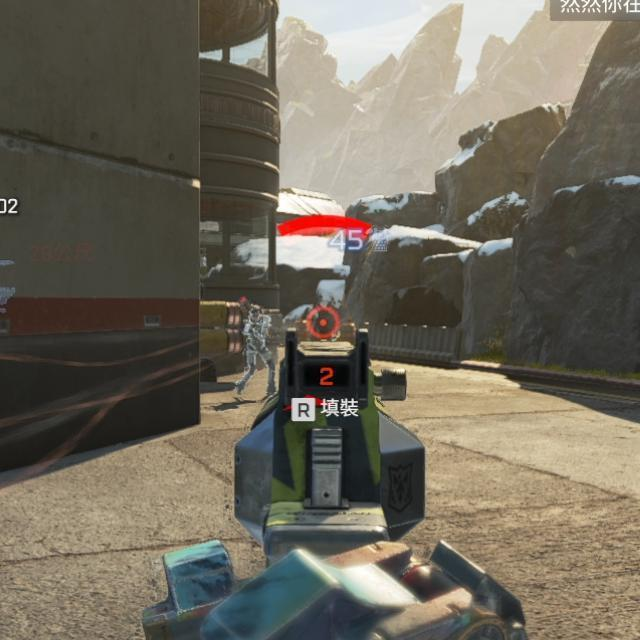avatar: (233, 302, 277, 401)
